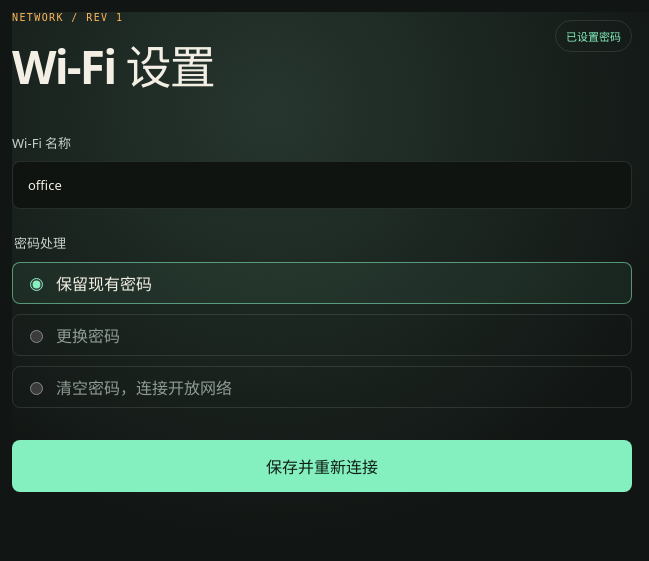
it: WifiSettings › does not render untrusted transport error details
Expected: the field showing "office" is shown, [12,161,632,209]
What coordinates should you click on to do the following:
click the button "保存并重新连接"
I would click on:
 (322, 466)
Its box is [12,440,632,492].
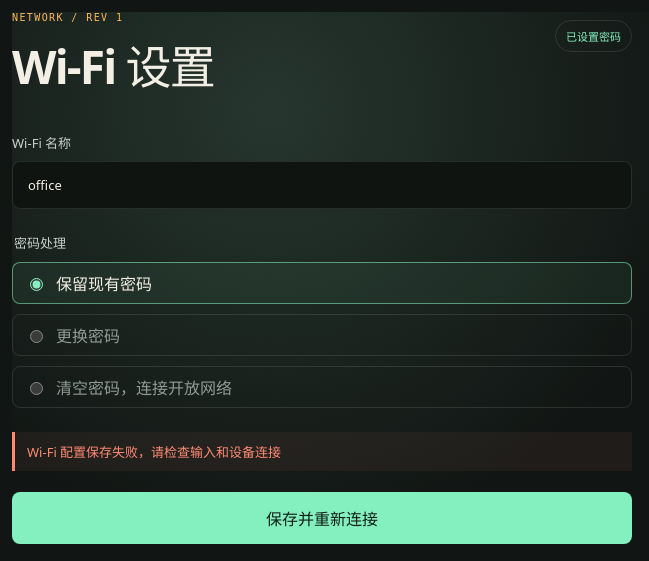
Expected: the message does not show "correct-horse", [12,432,632,471]
Expected: the message shows "请检查输入和设备连接", [27,443,281,461]
